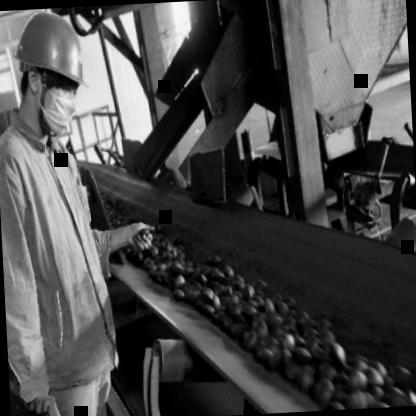helmet: (6, 7, 94, 138)
